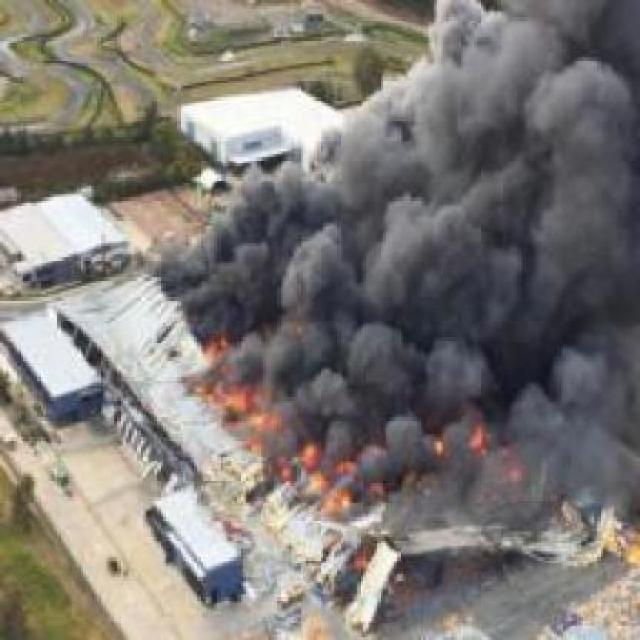Smoke: (175, 0, 640, 497)
